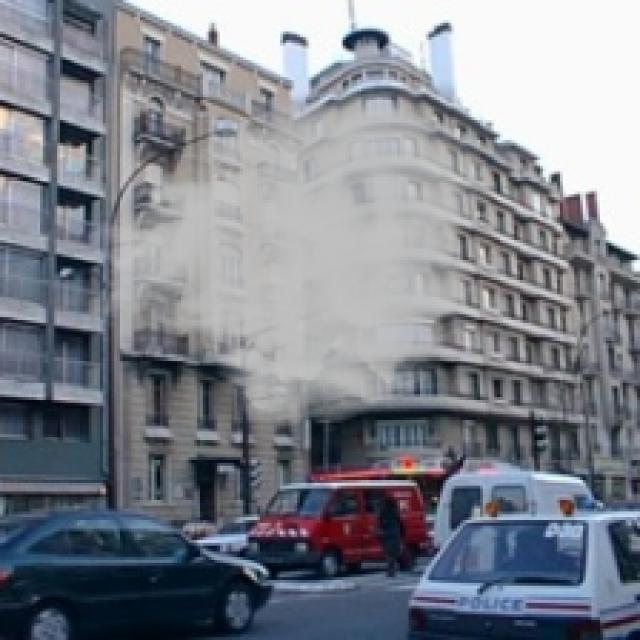Smoke: (82, 86, 498, 428)
